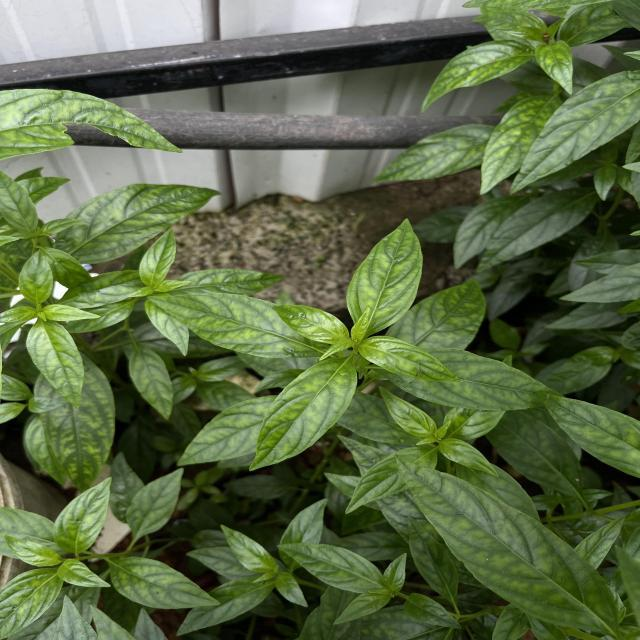Andrographis paniculata: (392, 452, 622, 634), (508, 70, 640, 198), (52, 182, 226, 266), (246, 354, 360, 472), (146, 292, 298, 360), (345, 215, 424, 334), (479, 93, 556, 197), (371, 122, 483, 188), (108, 554, 222, 611), (276, 542, 385, 594), (357, 334, 464, 386), (26, 318, 84, 411), (50, 475, 113, 555), (124, 466, 186, 540), (126, 344, 174, 422), (270, 304, 350, 346), (220, 524, 277, 574), (136, 225, 178, 288), (18, 247, 54, 306), (57, 558, 113, 590)
